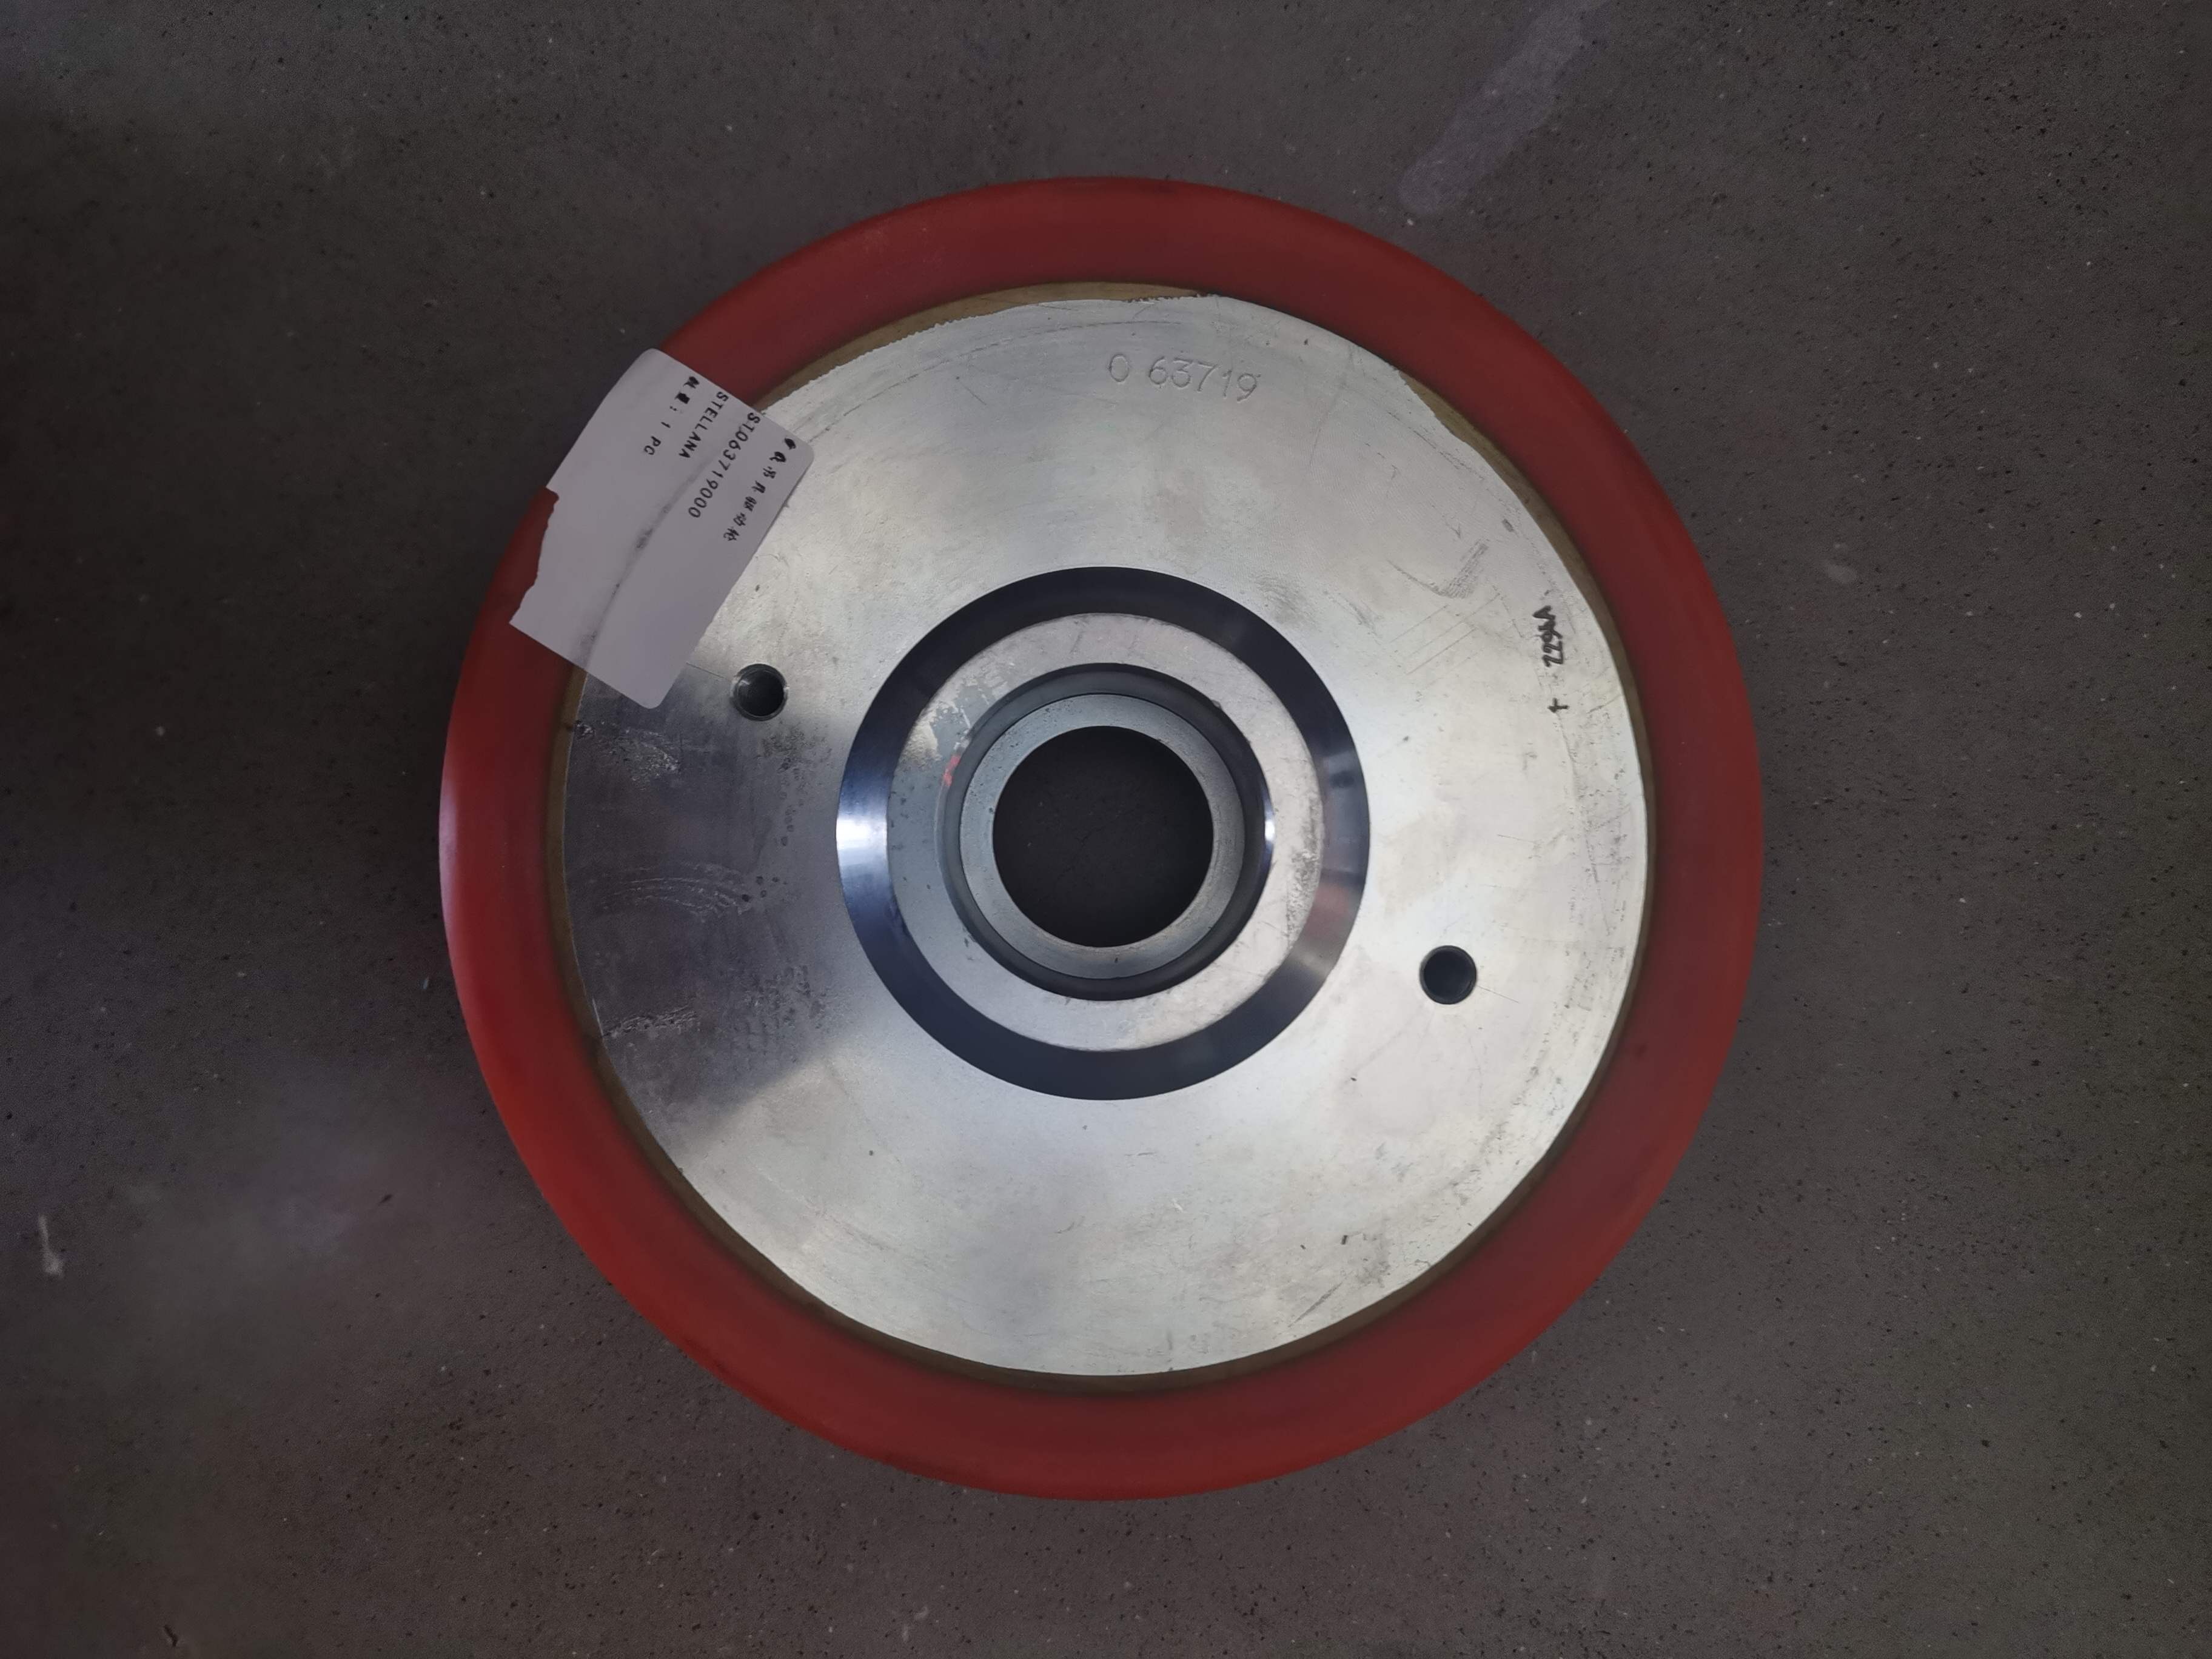good_wheel: (390, 139, 1832, 1520)
